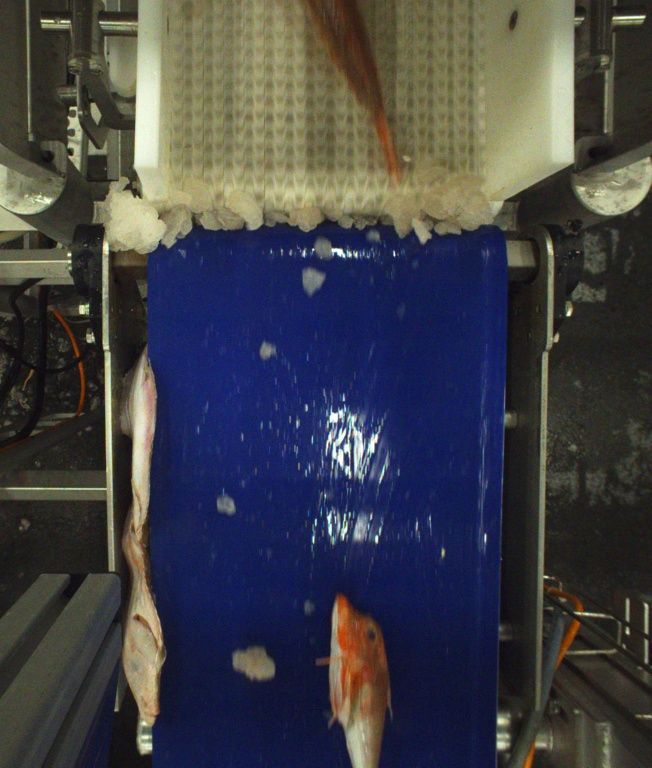GUU: (324, 592, 395, 765)
